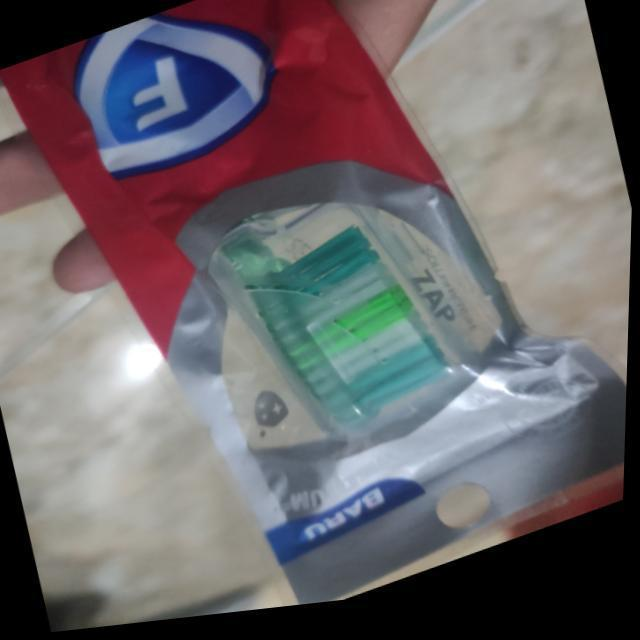toothbrush: (58, 18, 473, 470)
